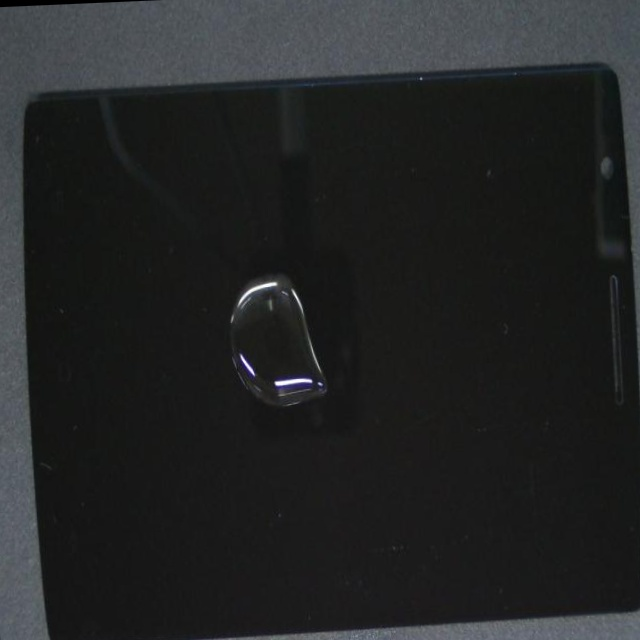oil: (164, 153, 438, 432)
